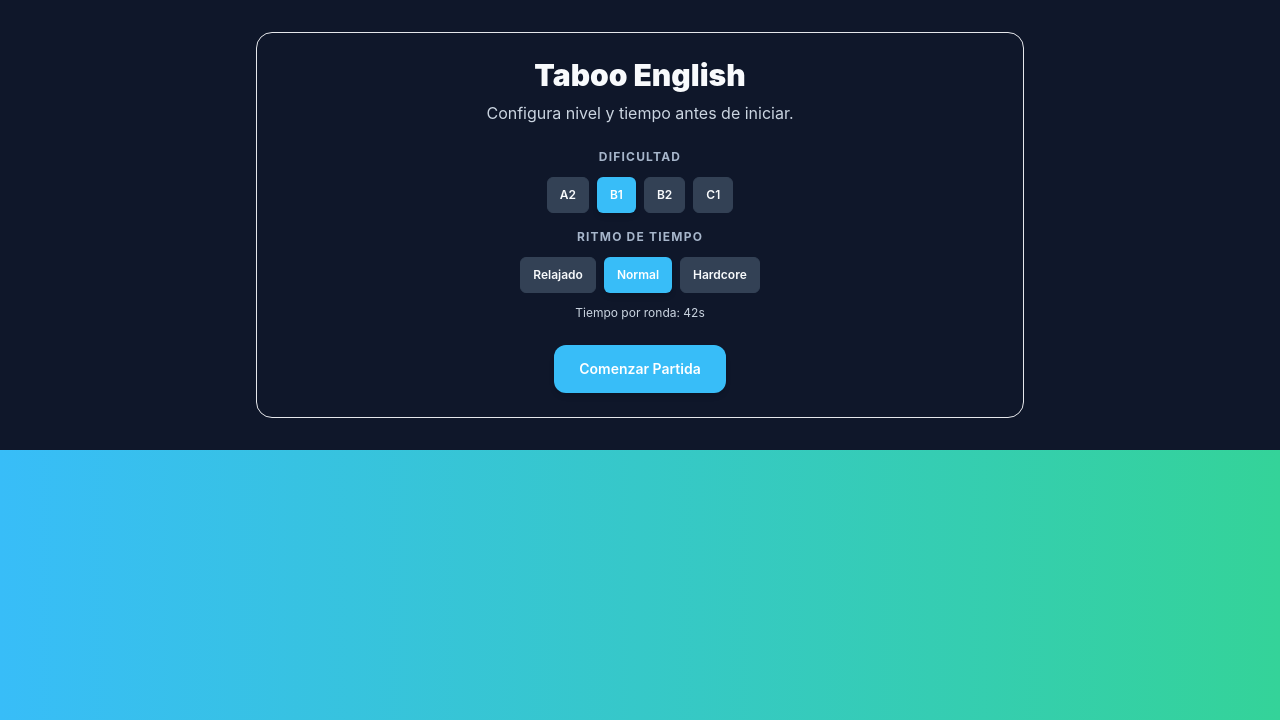
TabooEnglishView › flags forbidden word usage
The width and height of the screenshot is (1280, 720).
Click the button "Comenzar Partida" at (640, 369), box [554,345,726,393]
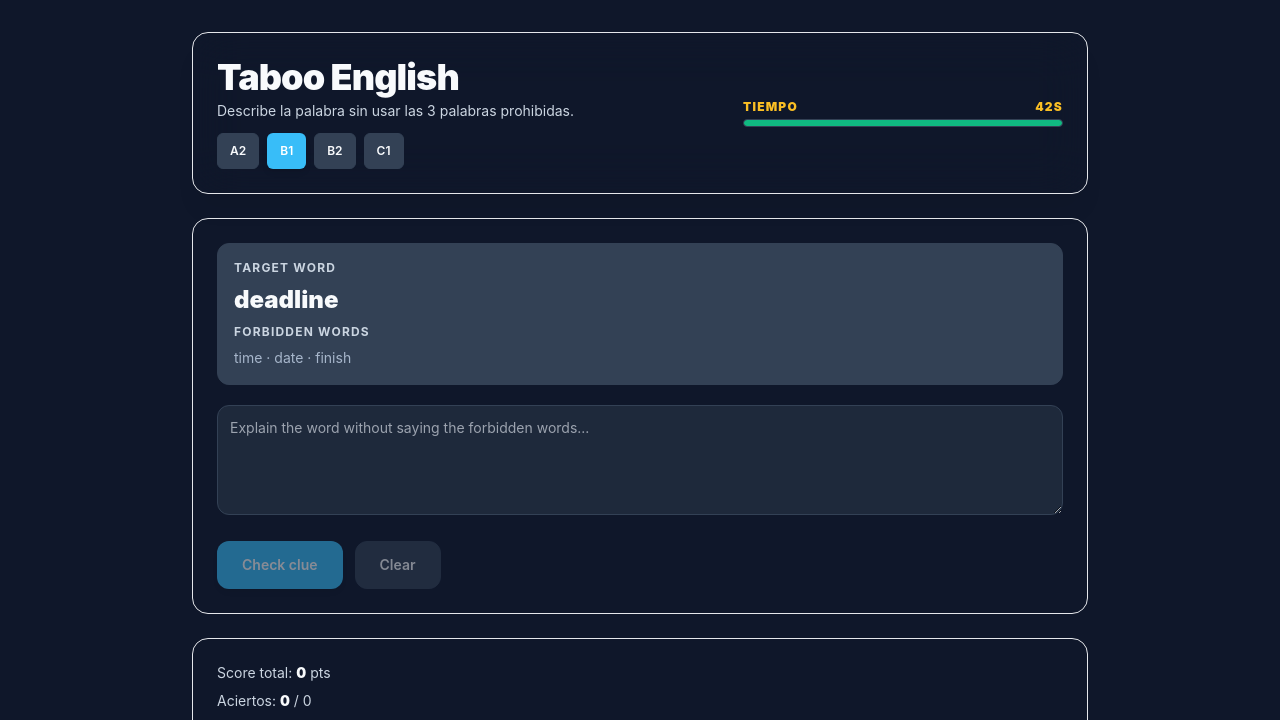
Type "You need to finish this task before the time limit" into the text box named "Taboo explanation" at (640, 460), box [217,405,1063,515]
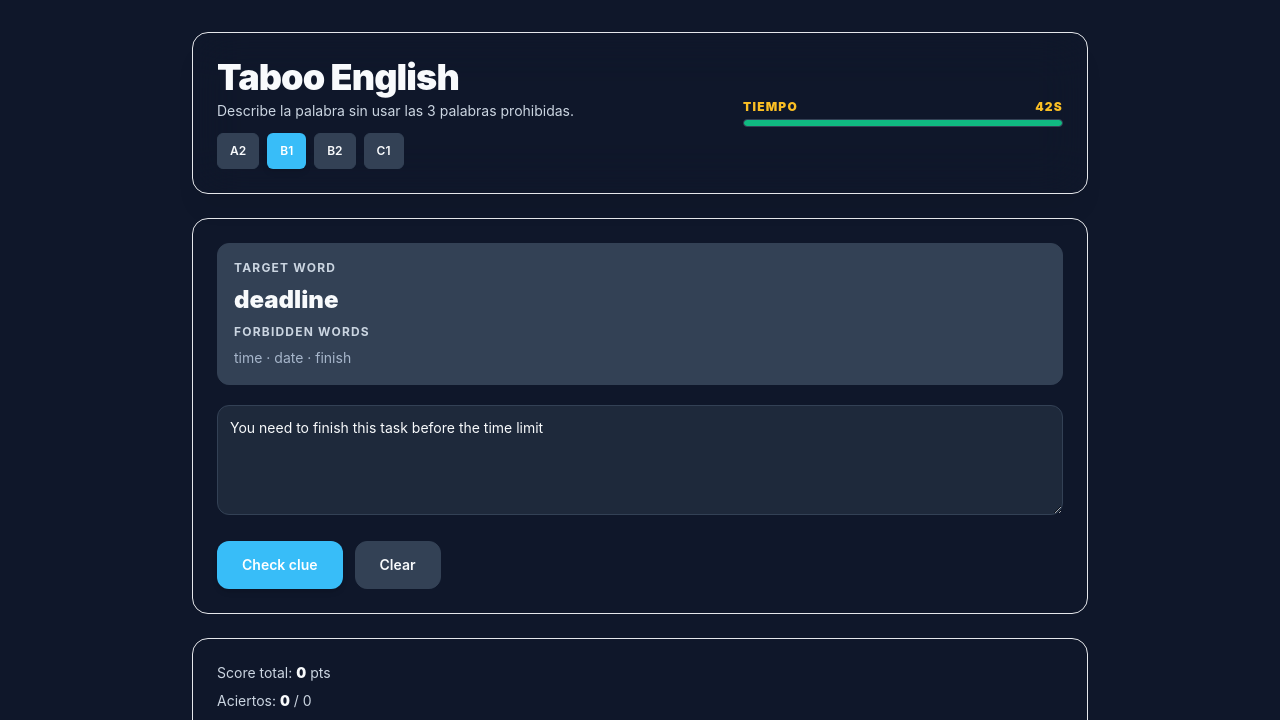
Click the button "Check clue" at (280, 565), box [217,541,342,589]
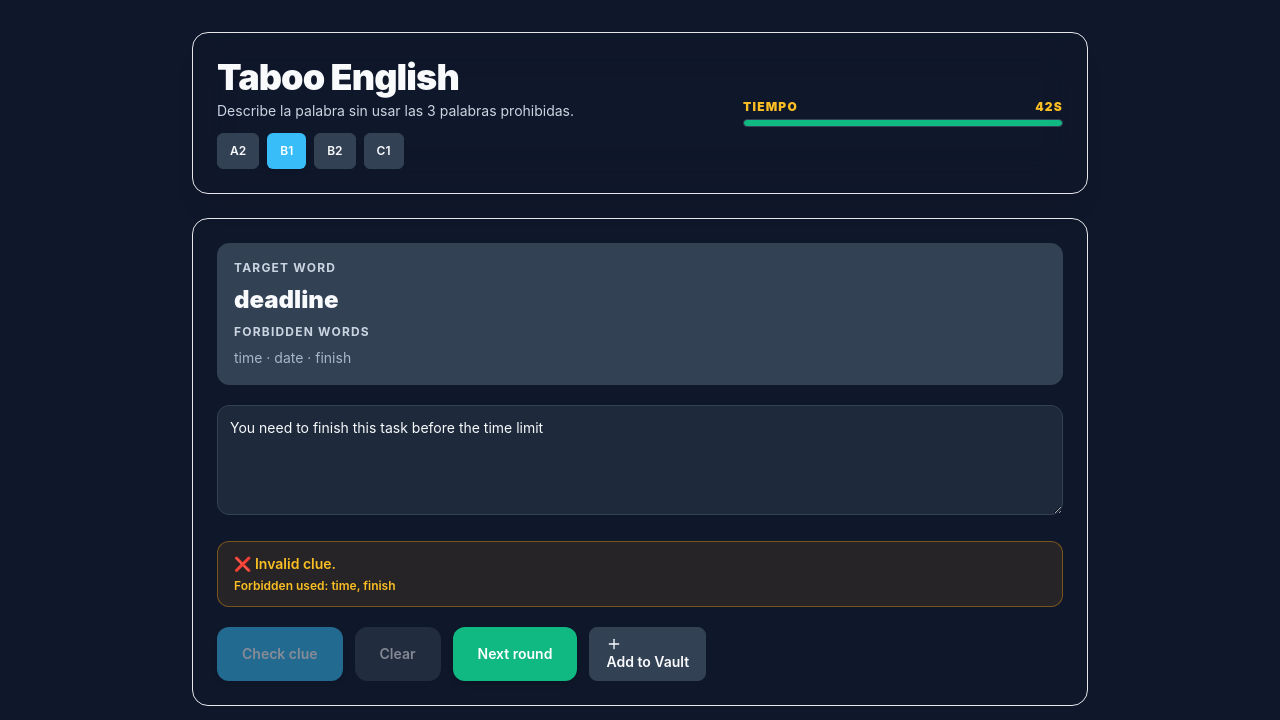
Now the text "Forbidden used: time, finish" is shown, box [234,578,396,593]
